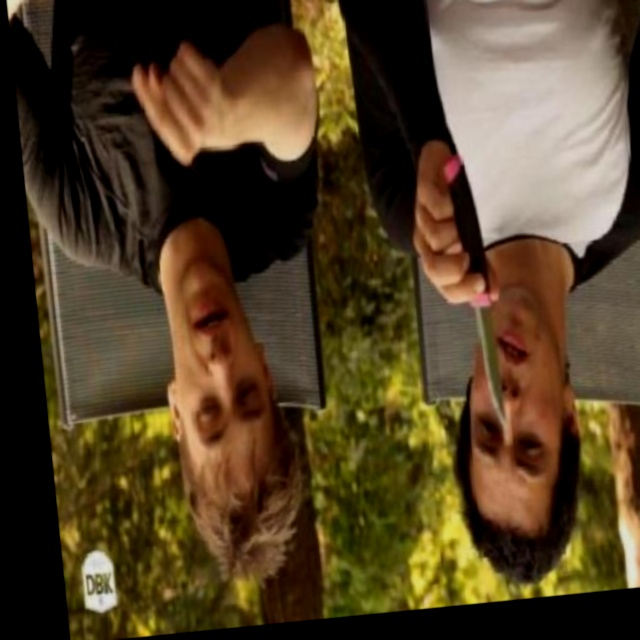Sharp-Object: (443, 155, 511, 433)
